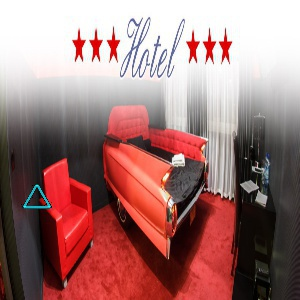triangle: (21, 183, 53, 213)
